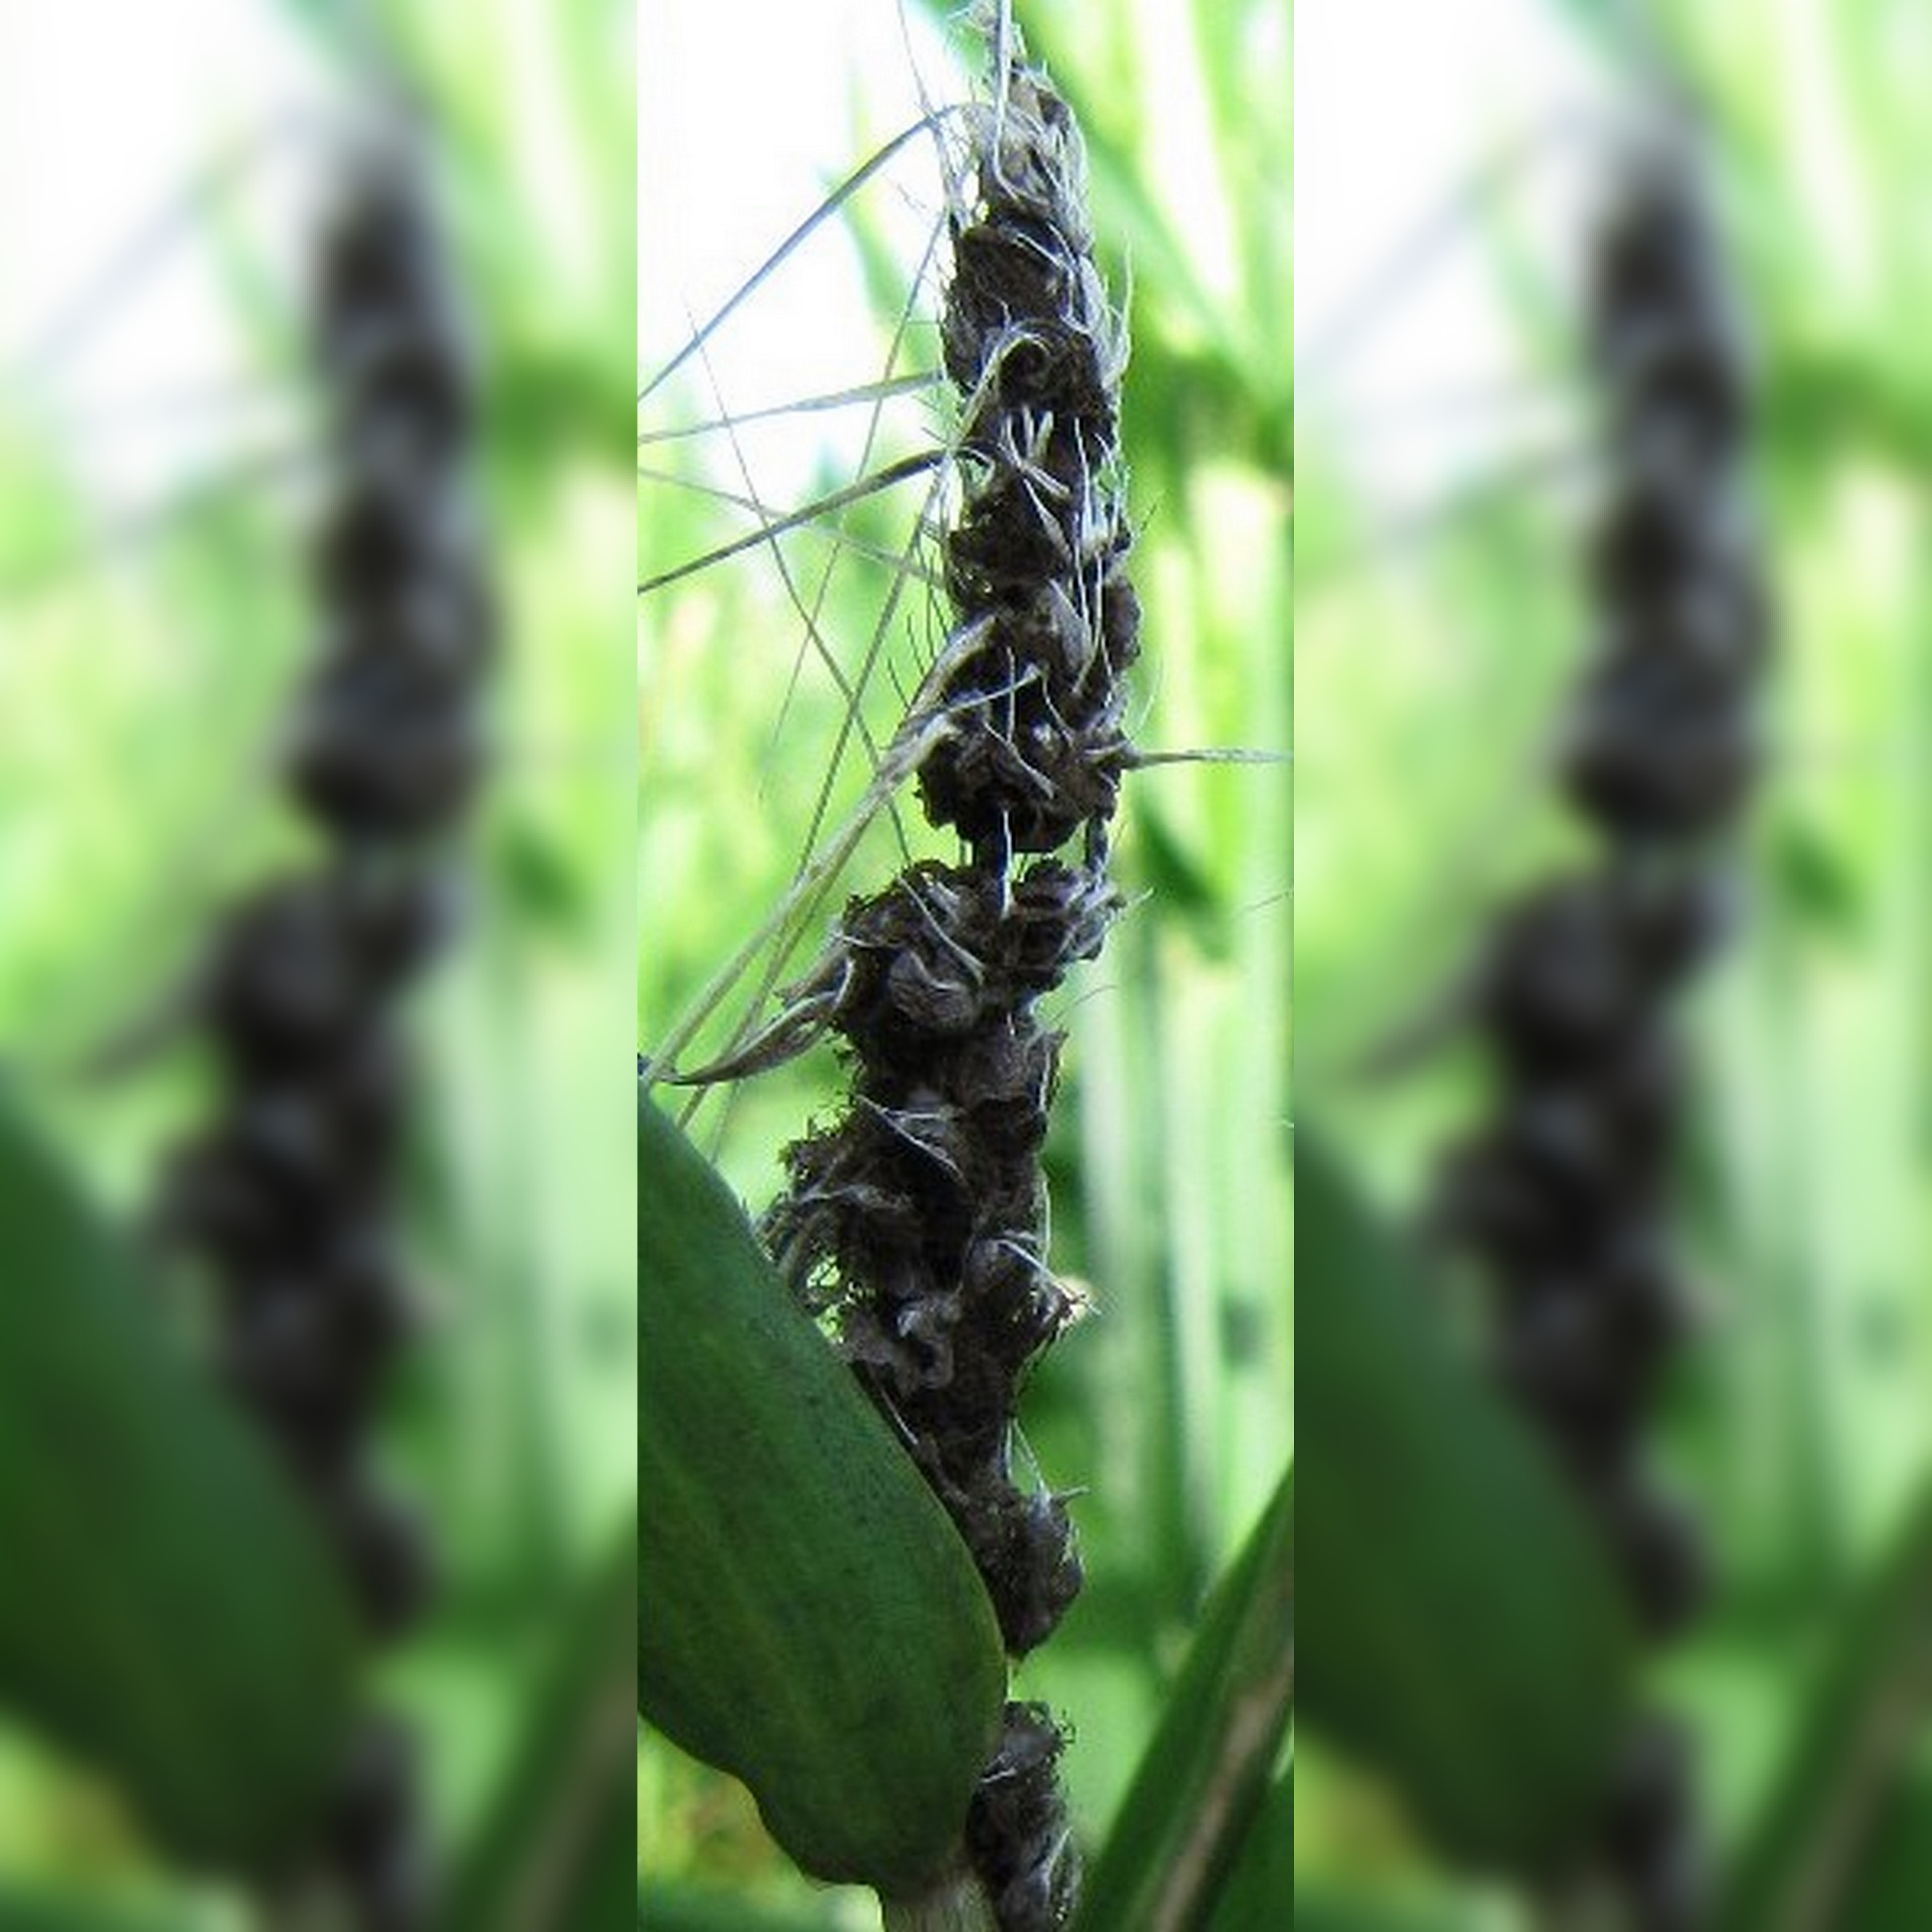Wheat Loose Smut: (786, 62, 1189, 1488)
